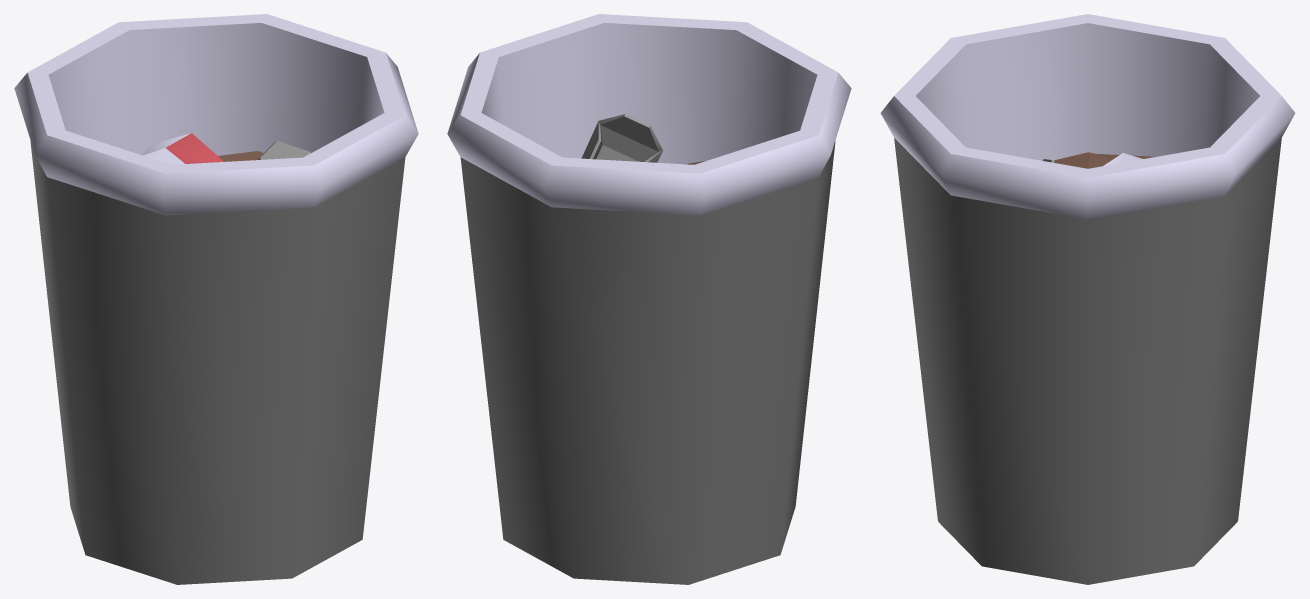
Rendered from bin_full.fbx.
The picture shows the model from 3 angles, left to right: view 1: azimuth 30°, elevation 25°; view 2: azimuth 150°, elevation 25°; view 3: azimuth 270°, elevation 25°; orthographic projection.
Parts seen in each view (by area): view 1: bin_full; view 2: bin_full; view 3: bin_full.
Part boxes in pixels (x1,y1,x2,y2): bin_full: (14, 14, 418, 584); bin_full: (447, 14, 851, 584); bin_full: (880, 14, 1295, 584).
Bounding box in the file's own units: 25.74 × 29.13 × 25.74.
